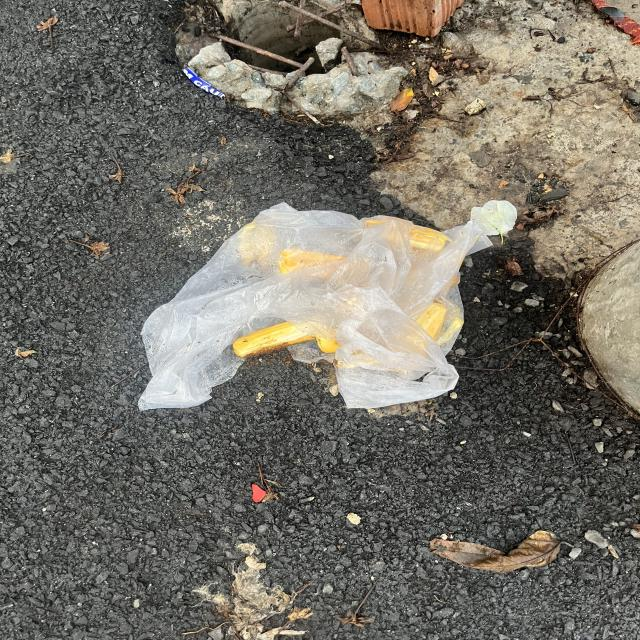trash bag: (137, 202, 495, 412)
